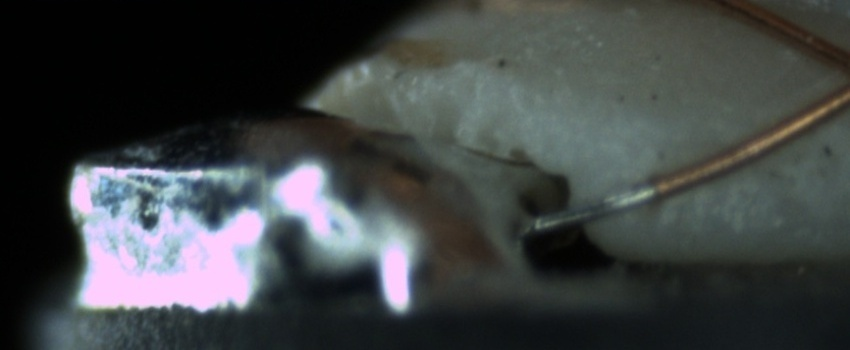TS: (521, 184, 654, 236)
